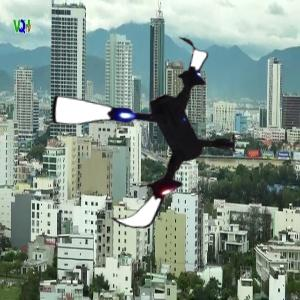drone: (45, 30, 250, 235)
